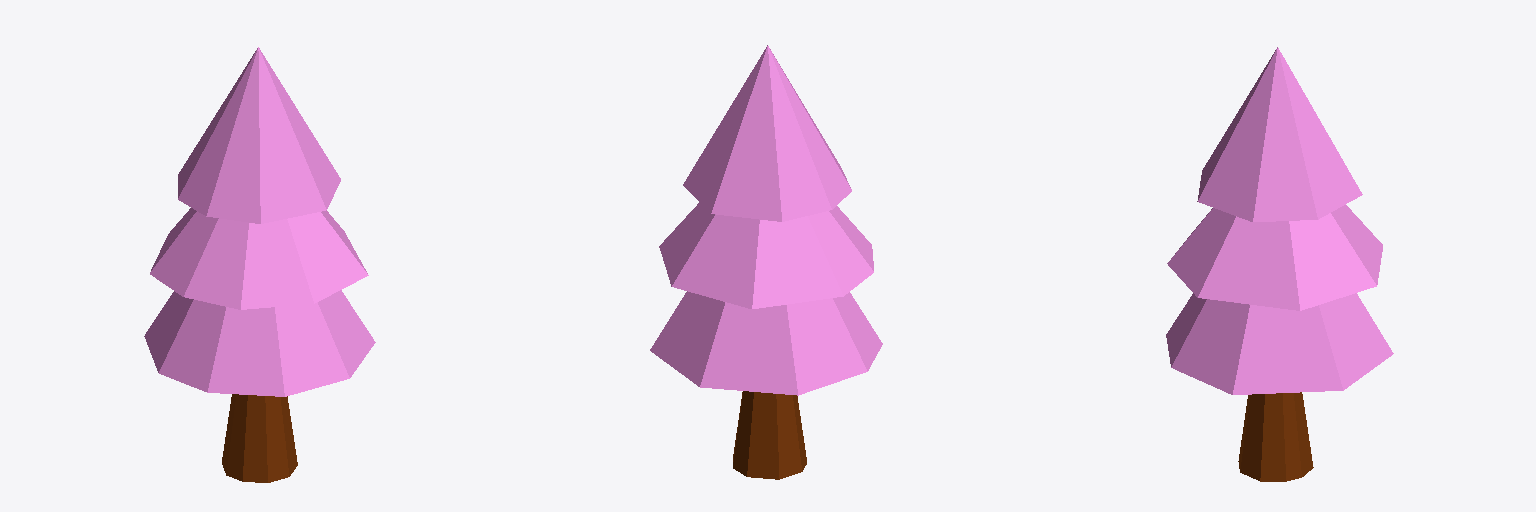
Rendered from forgottenTree.obj.
3 views of the same model, side by side, from view 1: azimuth 30°, elevation 25°; view 2: azimuth 150°, elevation 25°; view 3: azimuth 270°, elevation 25° (orthographic).
Parts seen in each view (by area): view 1: leafs_Cone.001, body_Cone; view 2: leafs_Cone.001, body_Cone; view 3: leafs_Cone.001, body_Cone.
Part boxes in pixels (x1,y1,x2,y2): leafs_Cone.001: (144, 47, 375, 396); body_Cone: (222, 394, 297, 482); leafs_Cone.001: (650, 45, 882, 395); body_Cone: (733, 391, 806, 479); leafs_Cone.001: (1166, 47, 1393, 394); body_Cone: (1238, 392, 1313, 481).
Bounding box in the file's own units: 2 × 4.06 × 2.